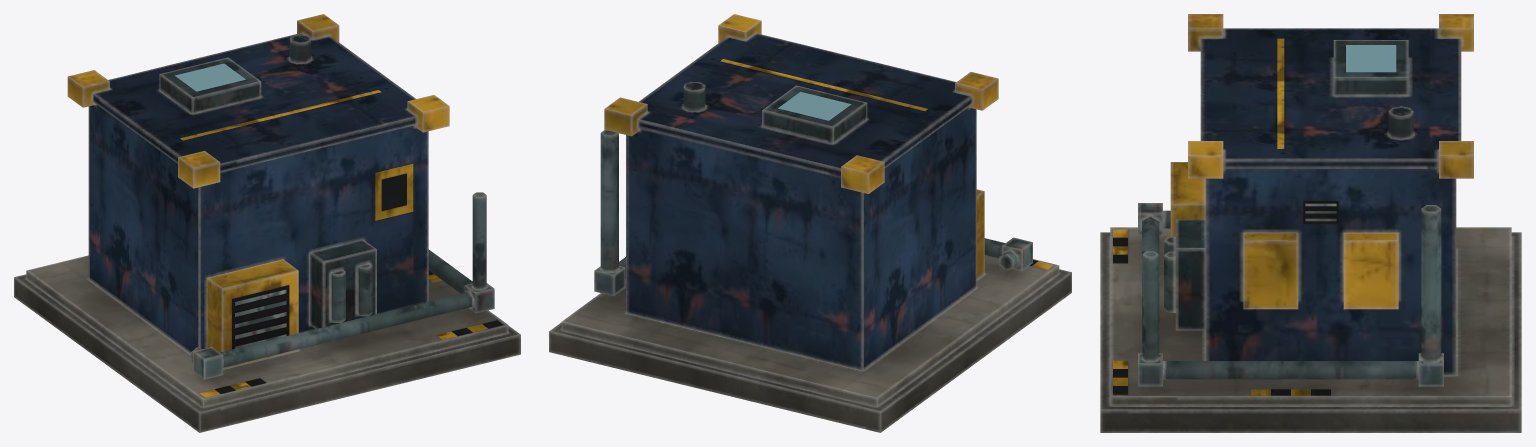
The model's file is life_support.glb.
3 views of the same model, side by side, from view 1: azimuth 30°, elevation 25°; view 2: azimuth 150°, elevation 25°; view 3: azimuth 270°, elevation 25° (orthographic). The views are drawn at different scales.
Parts seen in each view (by area): view 1: te_life_support; view 2: te_life_support; view 3: te_life_support.
Boxes of the visible parts, x1=… form: te_life_support: x1=14, y1=14, x2=520, y2=432; te_life_support: x1=549, y1=14, x2=1071, y2=432; te_life_support: x1=1100, y1=14, x2=1521, y2=432.
Bounding box in the file's own units: 0.84 × 0.6 × 0.84.
1 material, 1 textured.
